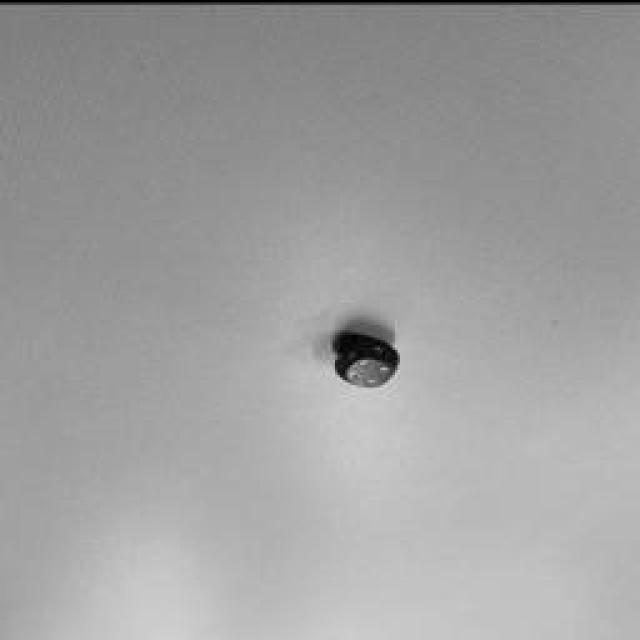dice_4: (346, 355, 394, 385)
